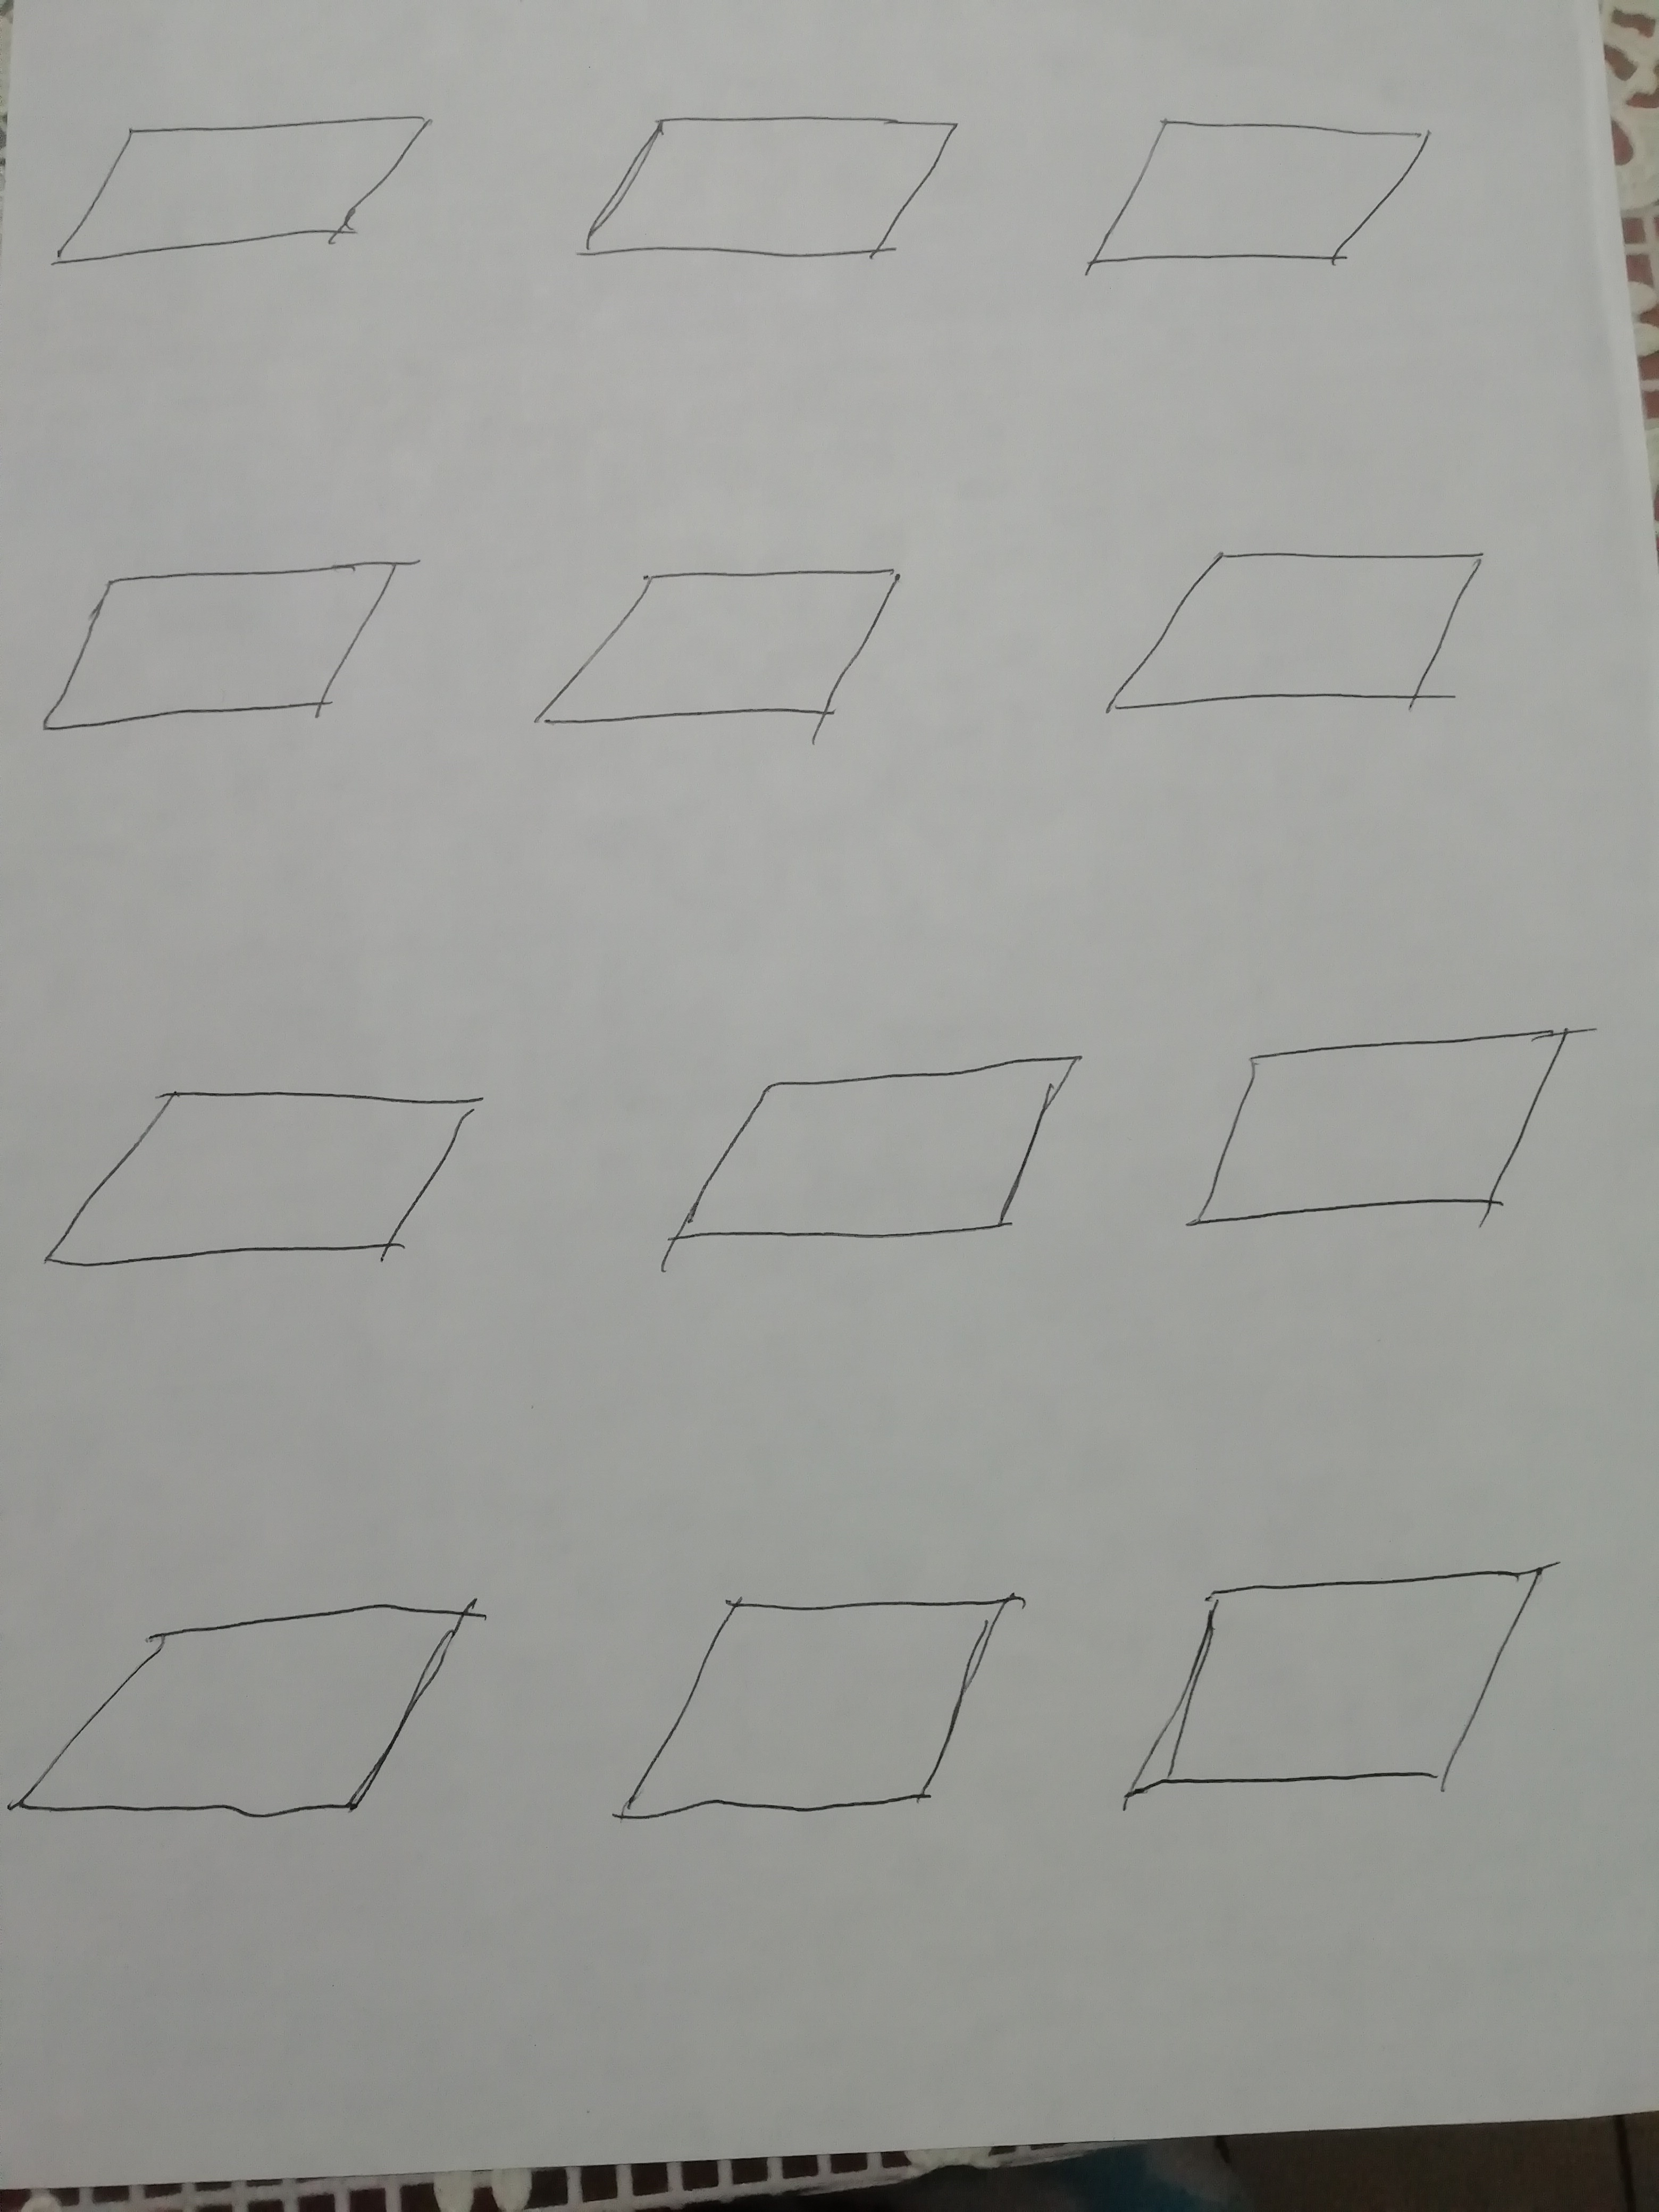scan: (1093, 1545, 1600, 1857), (582, 1548, 1054, 1872), (2, 1049, 533, 1336), (0, 1566, 505, 1846), (1164, 993, 1629, 1284), (647, 1031, 1112, 1315), (2, 517, 451, 798), (1075, 500, 1534, 768), (509, 535, 941, 787), (554, 78, 997, 312), (23, 78, 465, 301), (1068, 78, 1452, 326)
